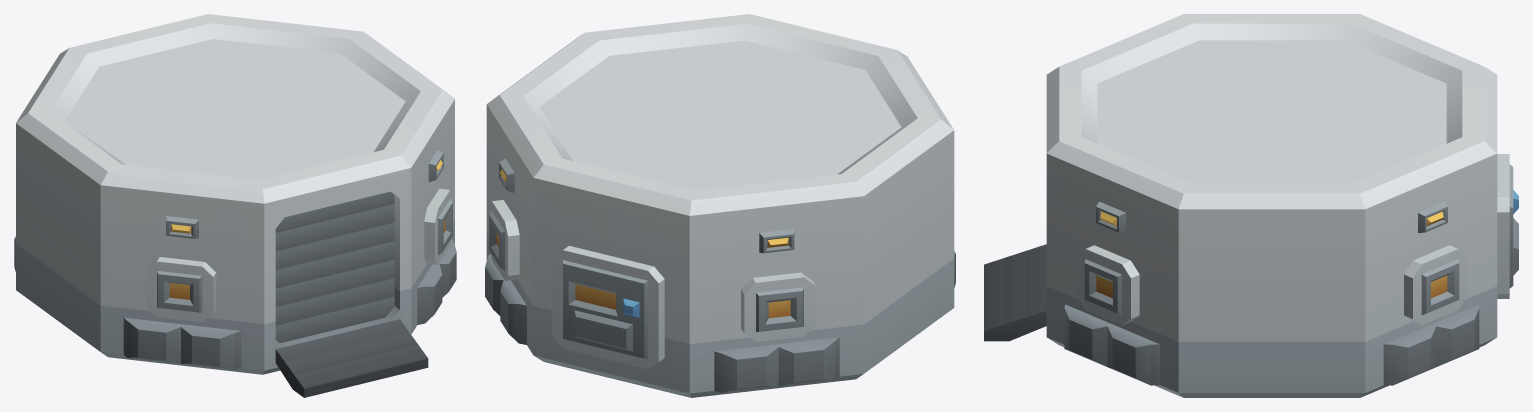
The model's file is basemodule_garage.glb.
3 renders of one model, left to right at view 1: azimuth 30°, elevation 25°; view 2: azimuth 150°, elevation 25°; view 3: azimuth 270°, elevation 25°, orthographic. The views are drawn at different scales.
Visible parts, largest first — view 1: basemodule_garage, basemodule_garage_door; view 2: basemodule_garage; view 3: basemodule_garage.
Part boxes in pixels (x1,y1,x2,y2): basemodule_garage: [14, 14, 456, 397]; basemodule_garage_door: [275, 191, 394, 343]; basemodule_garage: [485, 14, 955, 397]; basemodule_garage: [984, 14, 1518, 397].
Bounding box in the file's own units: 2 × 1 × 2.37.
1 material, 1 textured.
